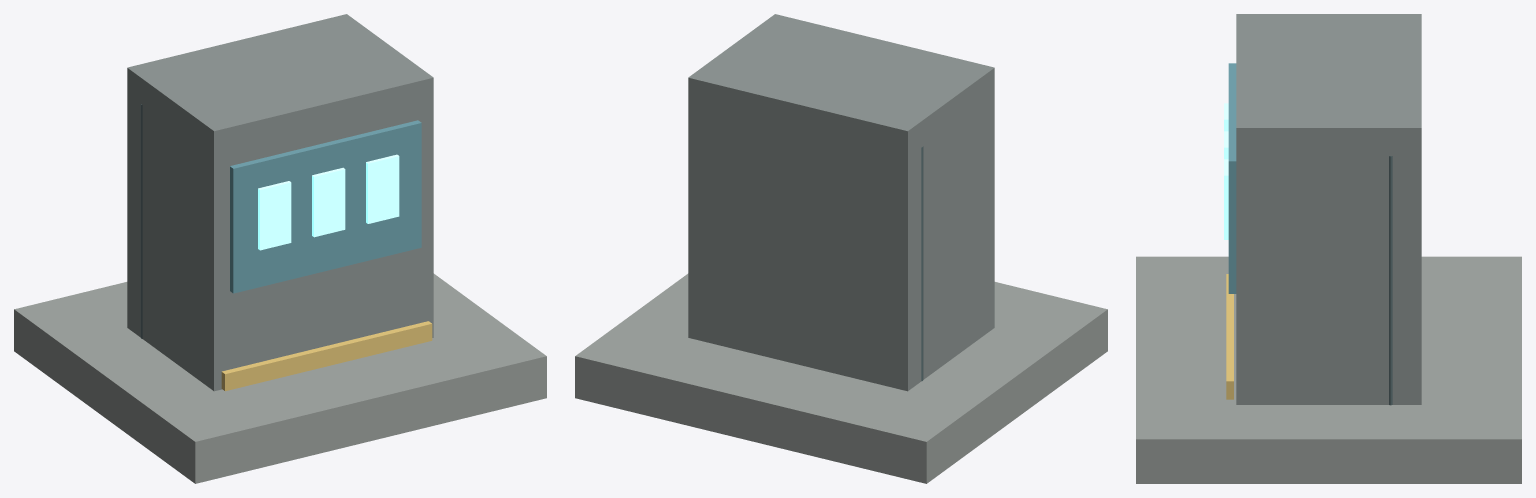
The model's file is town_reactor_link.glb.
The picture shows the model from 3 angles, left to right: view 1: azimuth 30°, elevation 25°; view 2: azimuth 150°, elevation 25°; view 3: azimuth 270°, elevation 25°; orthographic projection. The views are drawn at different scales.
Visible parts, largest first — view 1: armoured switch box, reactor distribution foundation, blue distribution face, warning stripe, powered circuit meter, powered circuit meter.001, powered circuit meter.002, power conduit; view 2: armoured switch box, reactor distribution foundation, power conduit; view 3: armoured switch box, reactor distribution foundation, blue distribution face, power conduit.001, warning stripe.
Boxes of the visible parts, box(x1,y1,x2,y2) form: armoured switch box: box(127, 14, 433, 391); reactor distribution foundation: box(14, 273, 546, 483); blue distribution face: box(230, 120, 421, 293); warning stripe: box(221, 321, 432, 391); powered circuit meter: box(258, 181, 291, 250); powered circuit meter.001: box(312, 167, 345, 237); powered circuit meter.002: box(366, 154, 399, 223); power conduit: box(140, 104, 142, 338); armoured switch box: box(688, 14, 994, 391); reactor distribution foundation: box(575, 273, 1107, 483); power conduit: box(921, 146, 923, 381); armoured switch box: box(1236, 14, 1421, 404); reactor distribution foundation: box(1136, 256, 1521, 483); blue distribution face: box(1228, 63, 1236, 293); power conduit.001: box(1389, 156, 1392, 405); warning stripe: box(1226, 274, 1233, 399).
Size of the model in its own units: 2.8 by 2.3 by 2.5.
